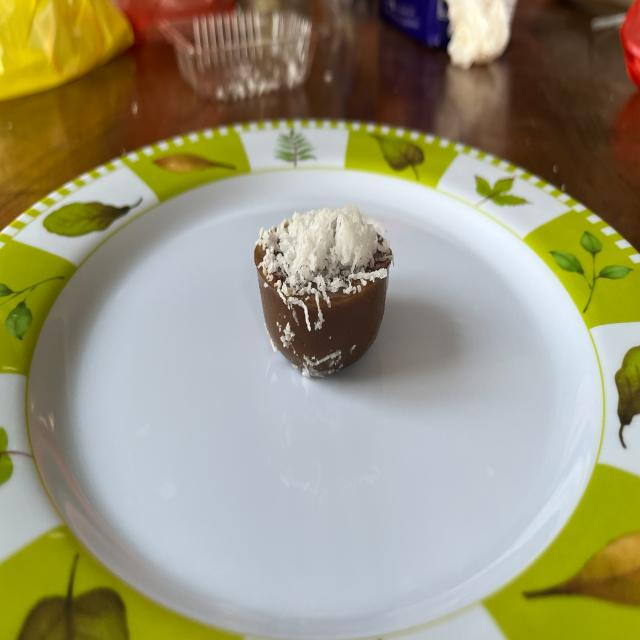Kuih lompang: (255, 204, 392, 376)
